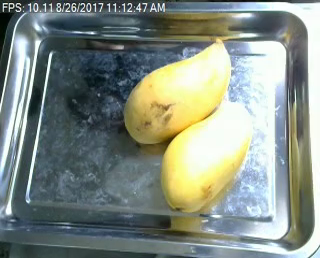Mango: (124, 36, 236, 142), (158, 93, 255, 208)
